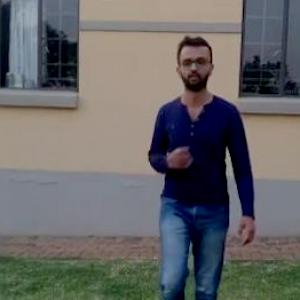follow: (148, 42, 235, 299)
